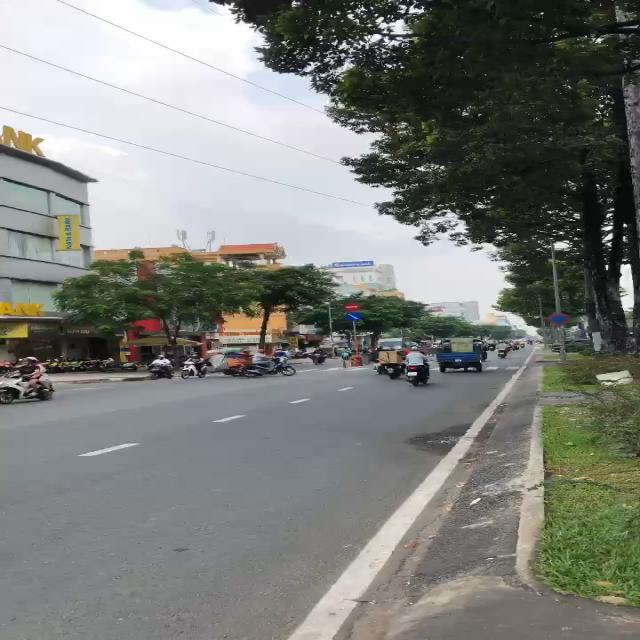Bien bao cam do xe: (545, 312, 579, 327)
